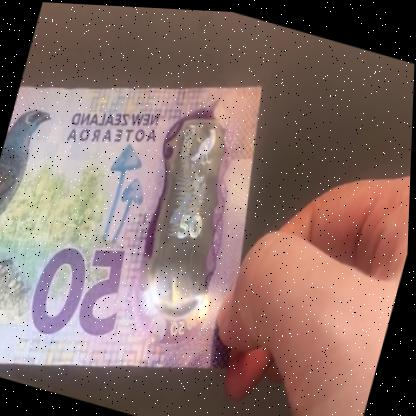50B: (139, 112, 247, 318)
